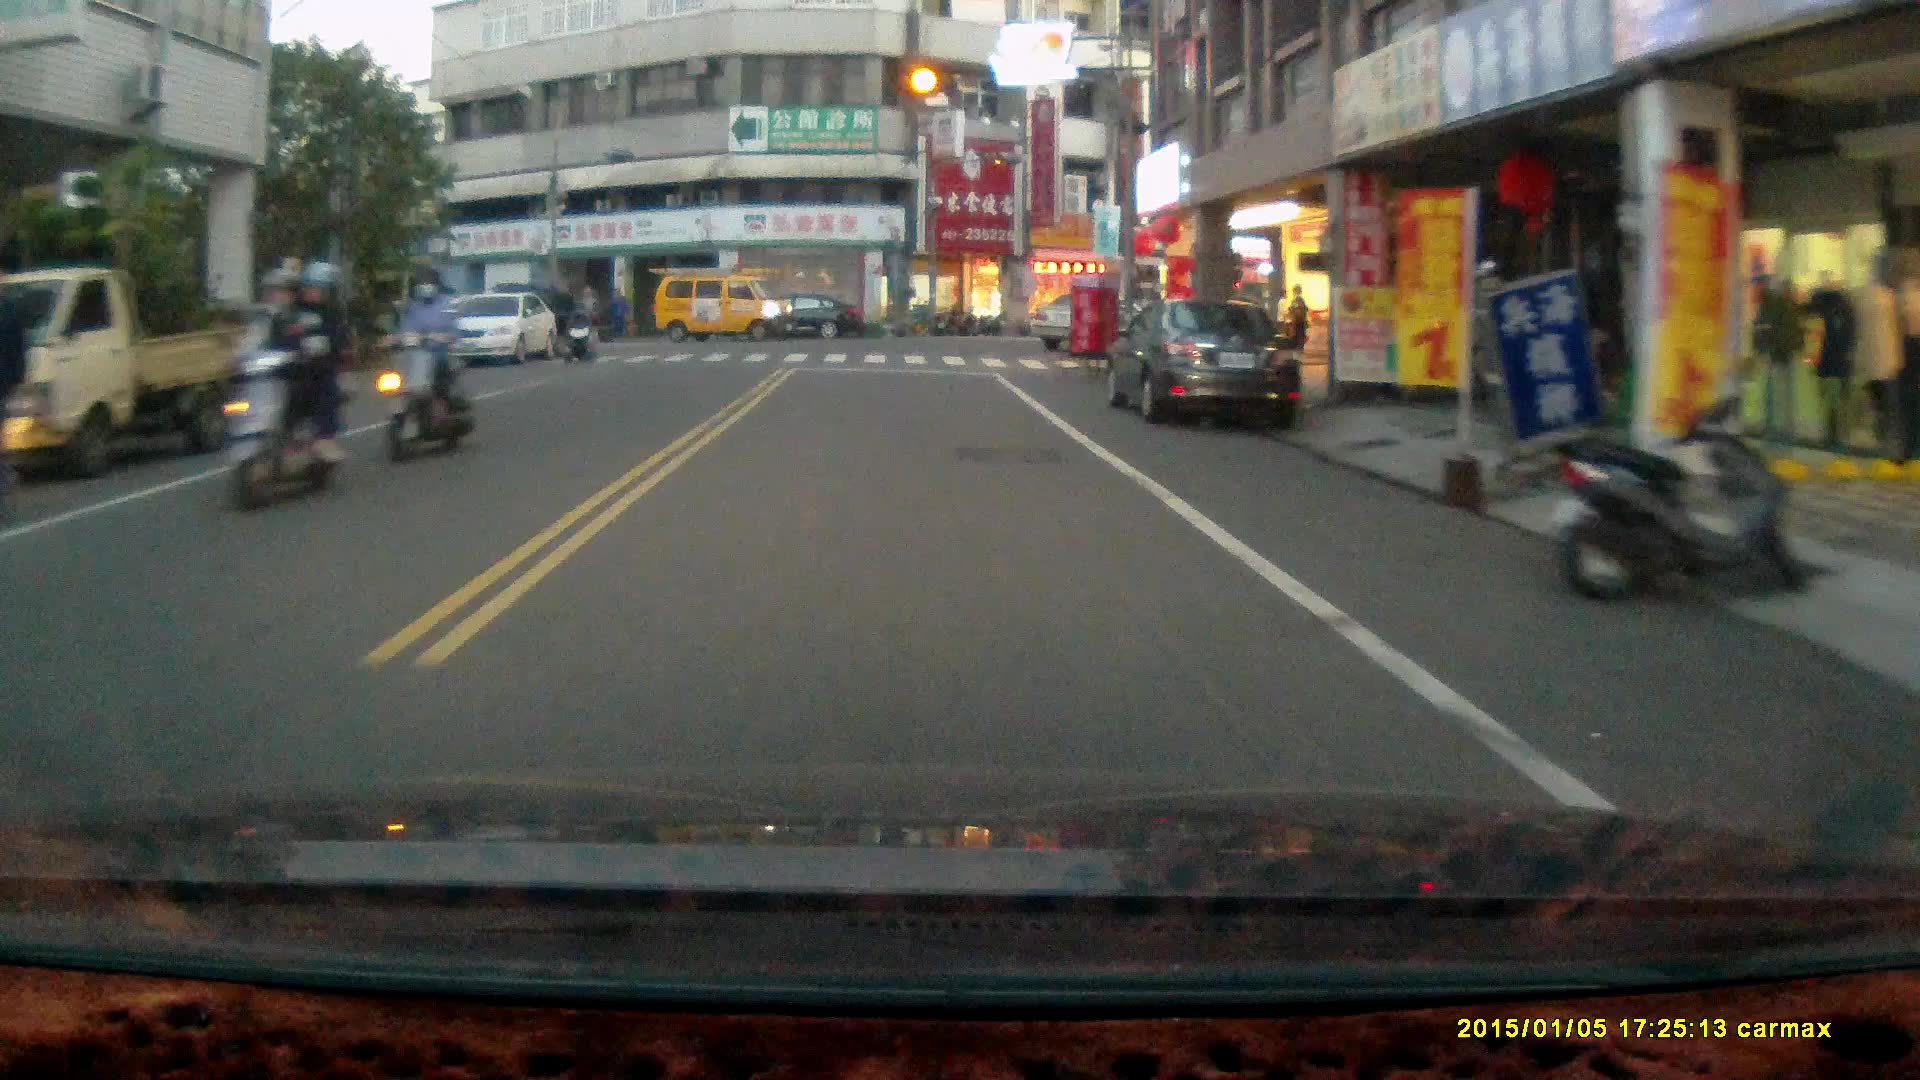pedestrian: (1286, 281, 1310, 363)
rider: (219, 257, 346, 519), (377, 263, 476, 467), (559, 307, 601, 366)
vehicle: (1, 265, 289, 480), (1101, 291, 1316, 437), (655, 264, 795, 343), (427, 288, 554, 368), (743, 289, 866, 341)
